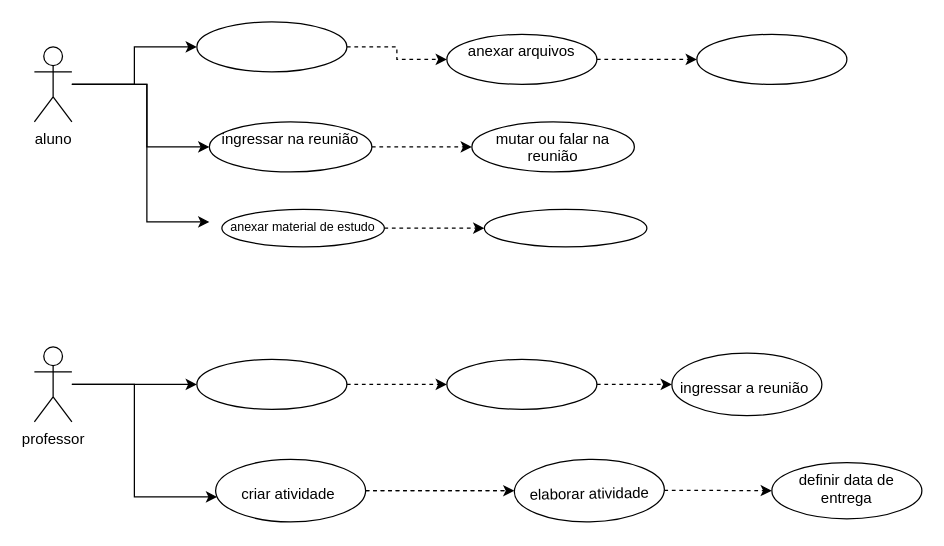
Some shapes in this 944 by 546 pixel diagram are drawn without their labels. The shapes that lost their labels are listed below. From the top down, each one's box as (x1, y1, x2, y2) in pixels, then its label:
(196, 21, 347, 72): postar soluções
(696, 33, 847, 84): poder editar o envio
(483, 208, 647, 247): comentar material de estudo
(196, 358, 347, 409): criar reunião
(446, 358, 597, 409): separar conteudo
